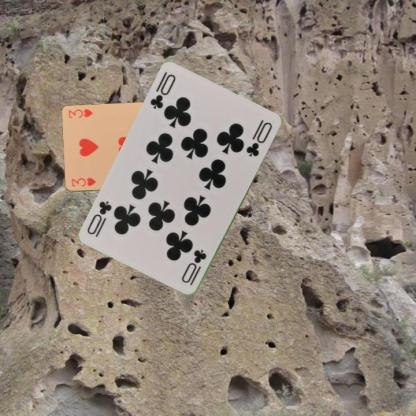10c: (148, 72, 178, 111), (179, 247, 208, 287)
3h: (69, 175, 97, 188)
